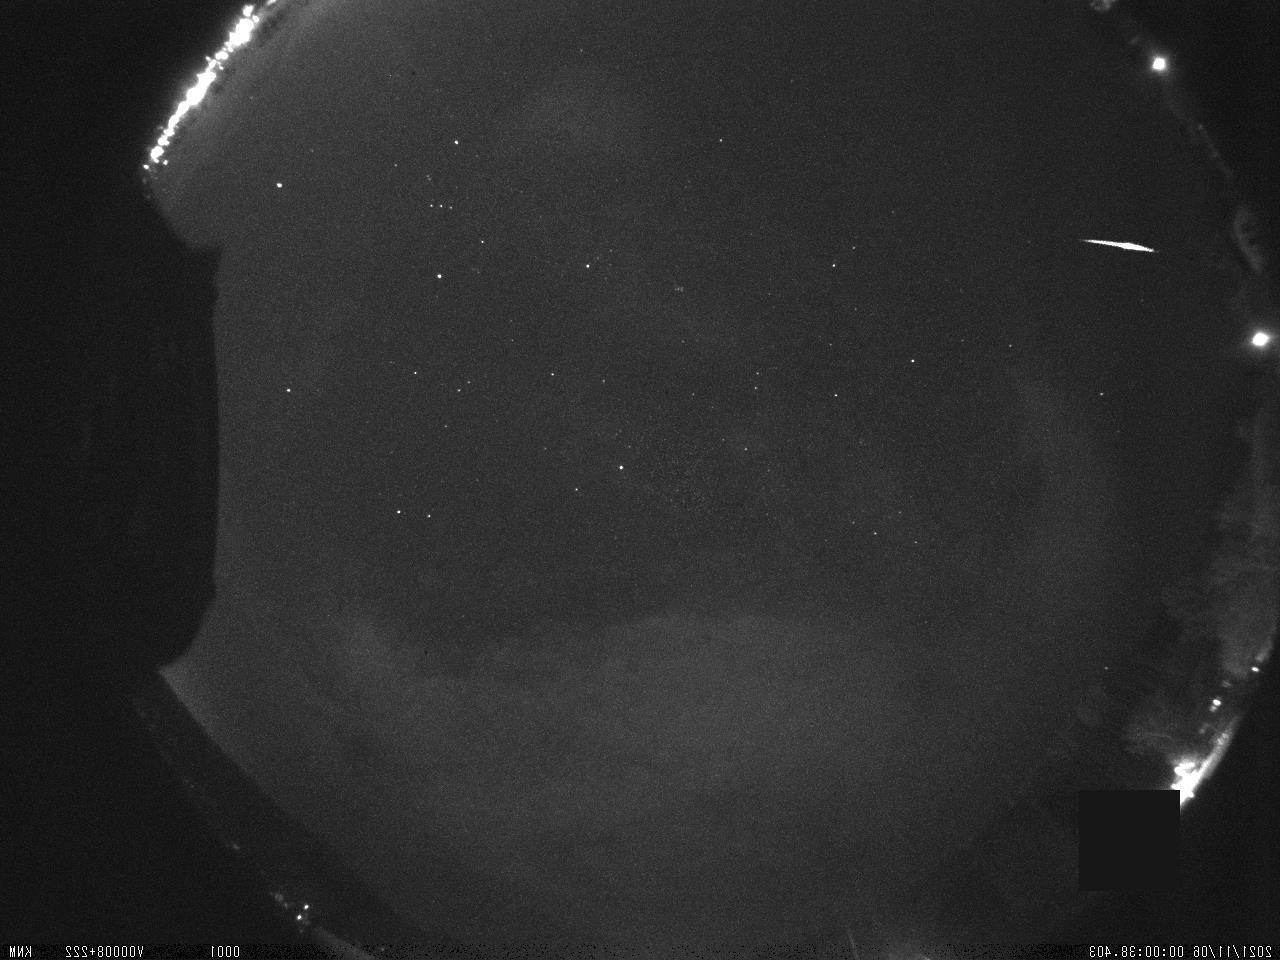meteor: (1072, 232, 1167, 258)
